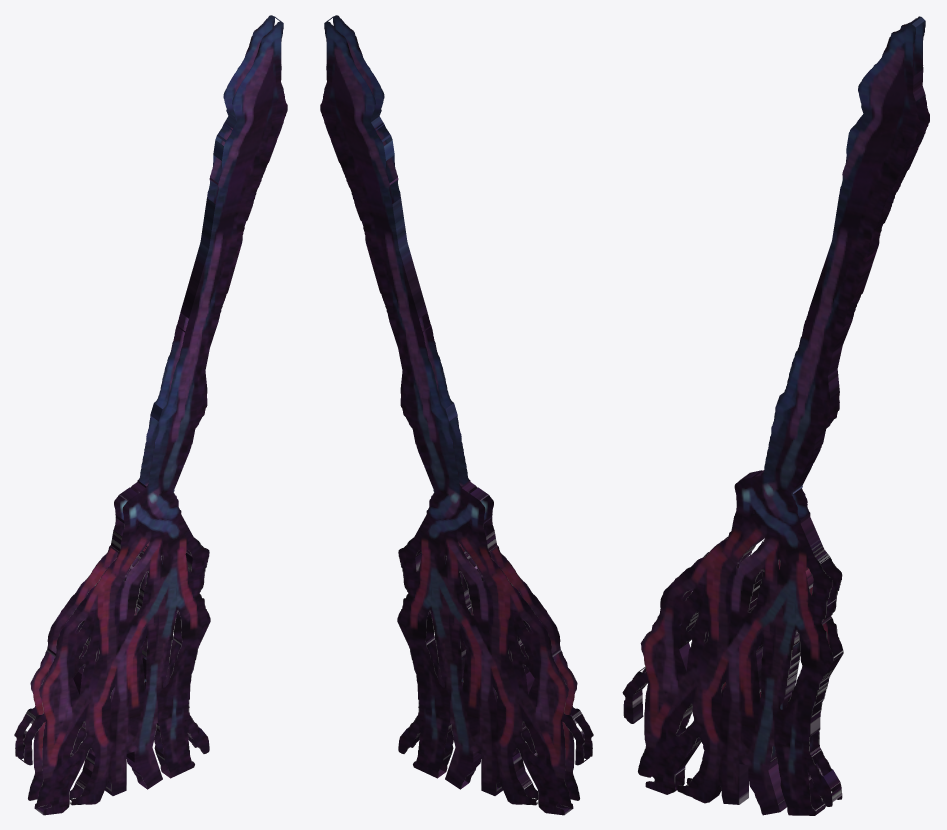
File: Broom.fbx
The picture shows the model from 3 angles, left to right: view 1: azimuth 30°, elevation 25°; view 2: azimuth 150°, elevation 25°; view 3: azimuth 330°, elevation 25°; orthographic projection. The views are drawn at different scales.
Parts seen in each view (by area): view 1: Broom.001; view 2: Broom.001; view 3: Broom.001.
Part boxes in pixels (<box>): Broom.001: <box>14,15,287,815</box>; Broom.001: <box>320,15,593,815</box>; Broom.001: <box>622,16,929,815</box>.
Size of the model in its own units: 35.72 by 94.59 by 2.
